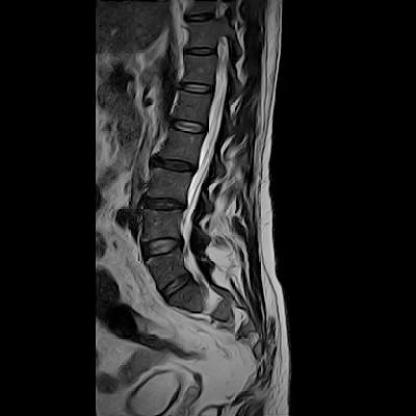Degenerative Disc Diseaserotation: (141, 194, 185, 214), (152, 157, 195, 175)
Disc Bulgerotation: (143, 236, 182, 259), (141, 195, 185, 215), (152, 157, 195, 175)
